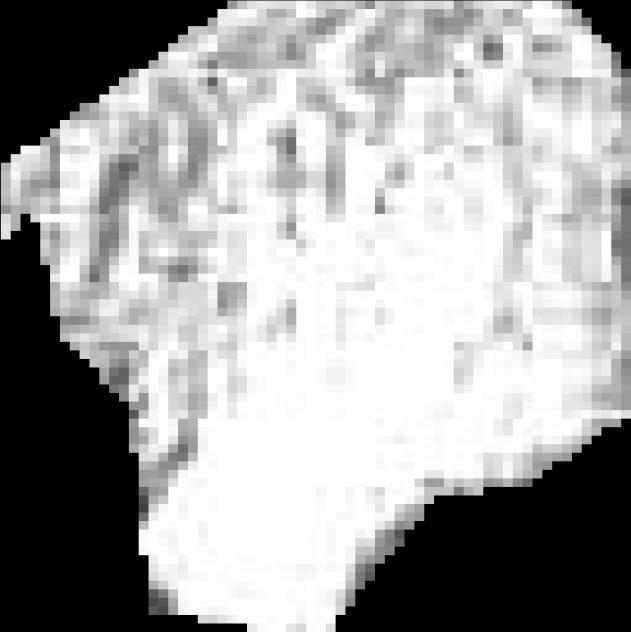tumor_moderate_chance: (1, 1, 631, 632)
